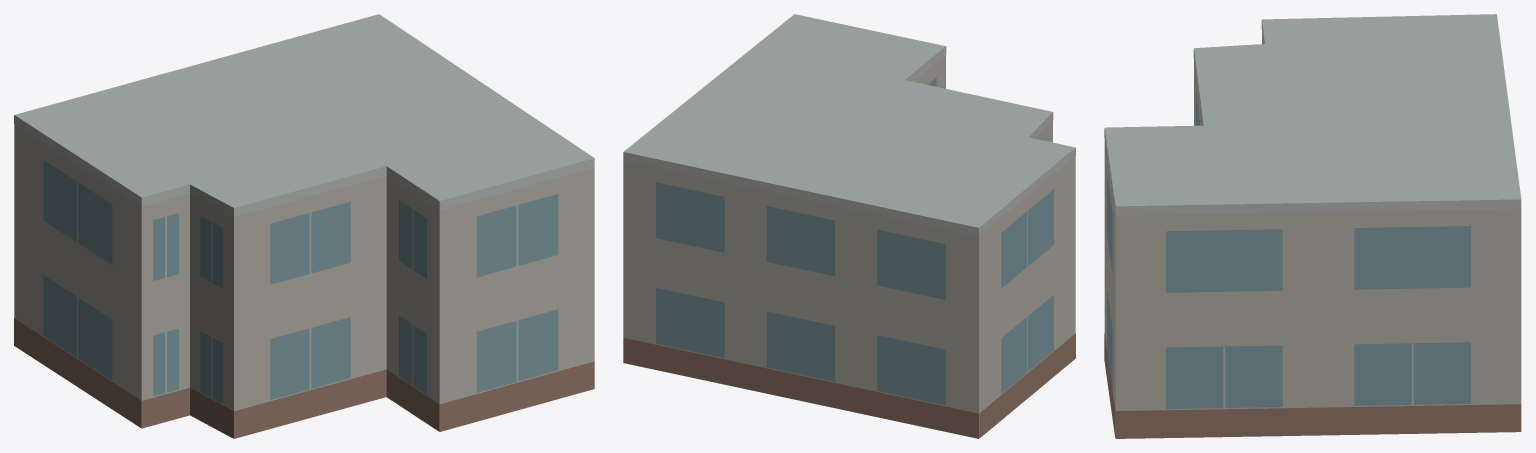
The model's file is survey-upis-32603498.glb.
The picture shows the model from 3 angles, left to right: view 1: azimuth 30°, elevation 25°; view 2: azimuth 150°, elevation 25°; view 3: azimuth 270°, elevation 25°; orthographic projection. The views are drawn at different scales.
Visible parts, largest first — view 1: survey-upis-32603498.tmp; view 2: survey-upis-32603498.tmp; view 3: survey-upis-32603498.tmp.
Part boxes in pixels (x1,y1,x2,y2): survey-upis-32603498.tmp: [14, 14, 594, 438]; survey-upis-32603498.tmp: [623, 14, 1075, 438]; survey-upis-32603498.tmp: [1104, 14, 1521, 438].
Bounding box in the file's own units: 10.83 × 6.1 × 9.92.
